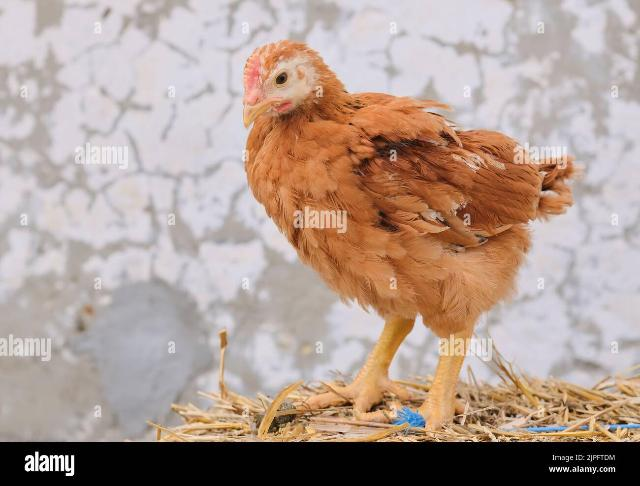Chicken: (240, 39, 585, 428)
